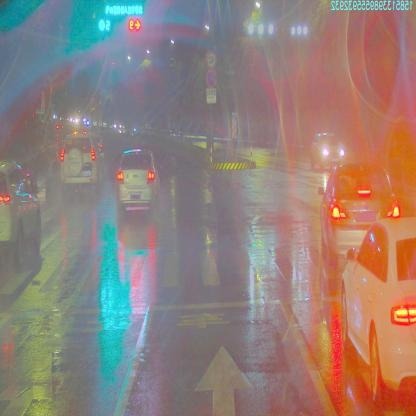traffic-light: (103, 4, 145, 14), (98, 17, 112, 34), (130, 18, 142, 34)
